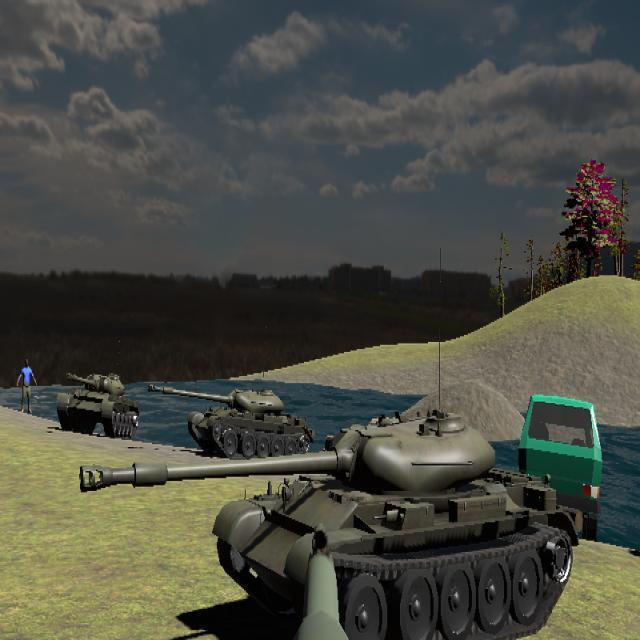Human: (16, 357, 37, 414)
Tank: (69, 407, 574, 638), (148, 384, 315, 461), (57, 370, 140, 440)
car: (517, 393, 602, 537)
